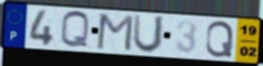3: (175, 19, 200, 56)
4: (28, 9, 56, 47)
M: (94, 12, 135, 53)
Q: (59, 9, 91, 50), (204, 20, 236, 58)
U: (131, 13, 167, 55)
